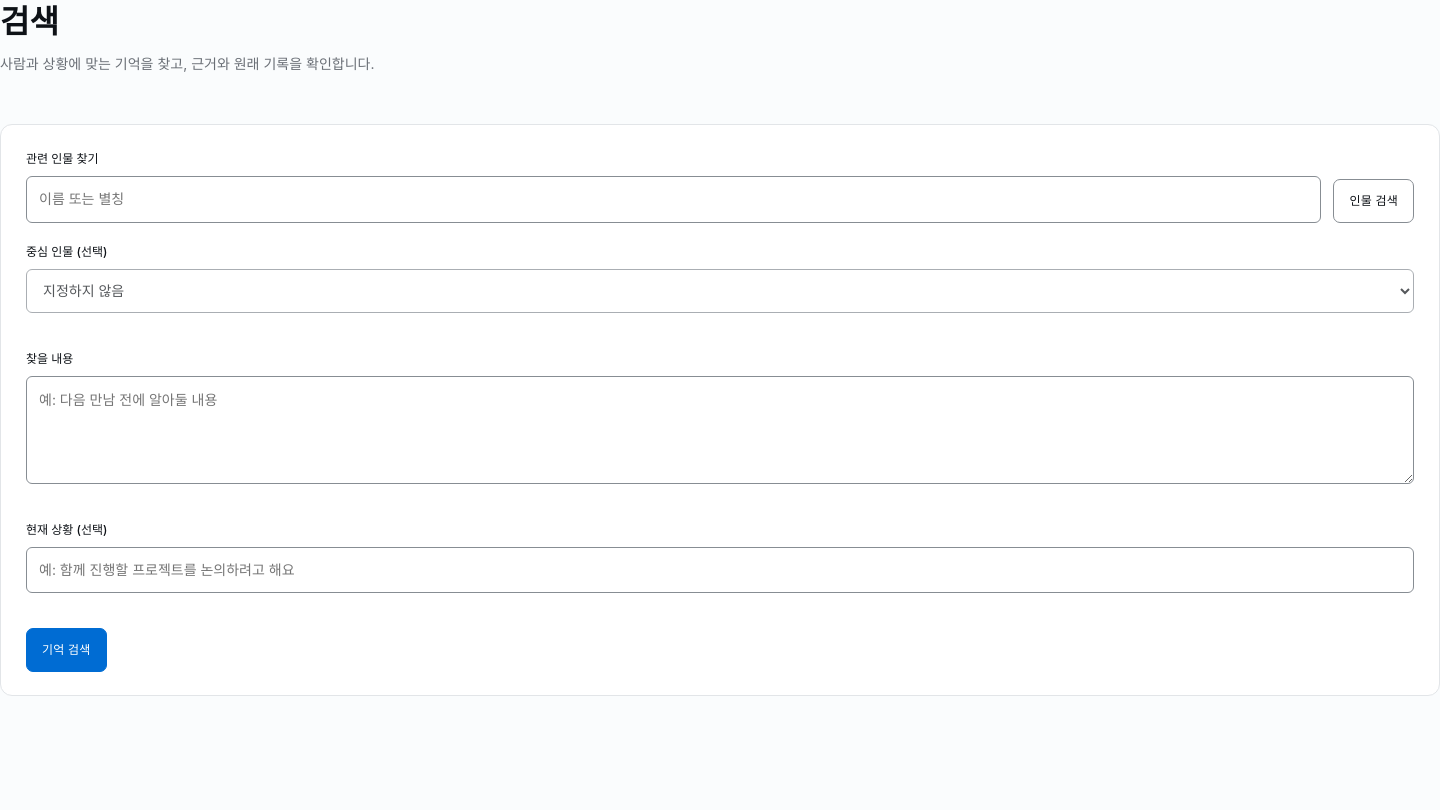
Test: 새 검색 화면 › 후속 검색의 인증 실패 시 이전 결과를 지우고 실패 원인을 표시한다
The width and height of the screenshot is (1440, 810).
Type "생일" into the text box labelled "찾을 내용".
click(720, 430); type("생일")  # box [26, 376, 1414, 484]
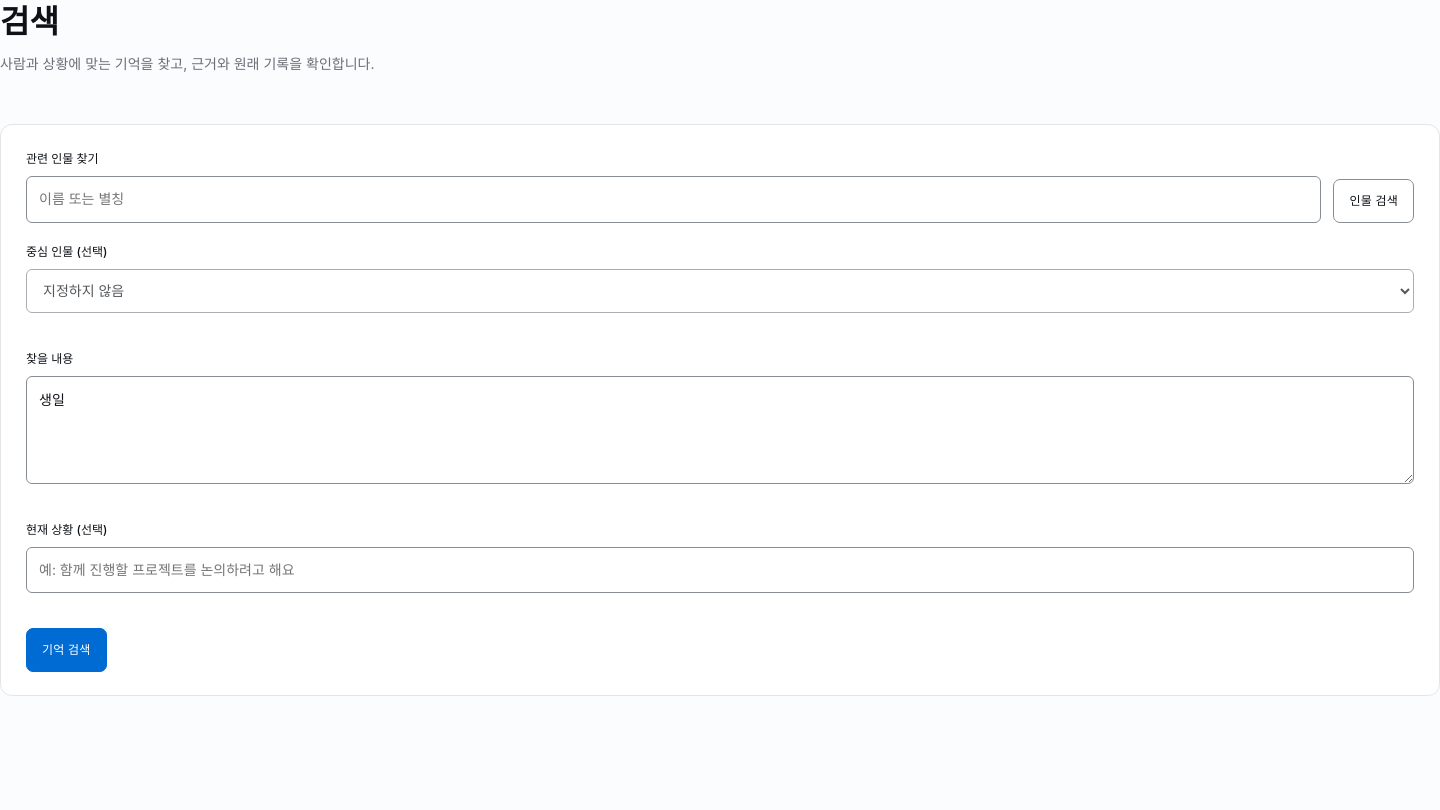
Click the button "기억 검색".
click(66, 650)  # box [26, 628, 107, 672]
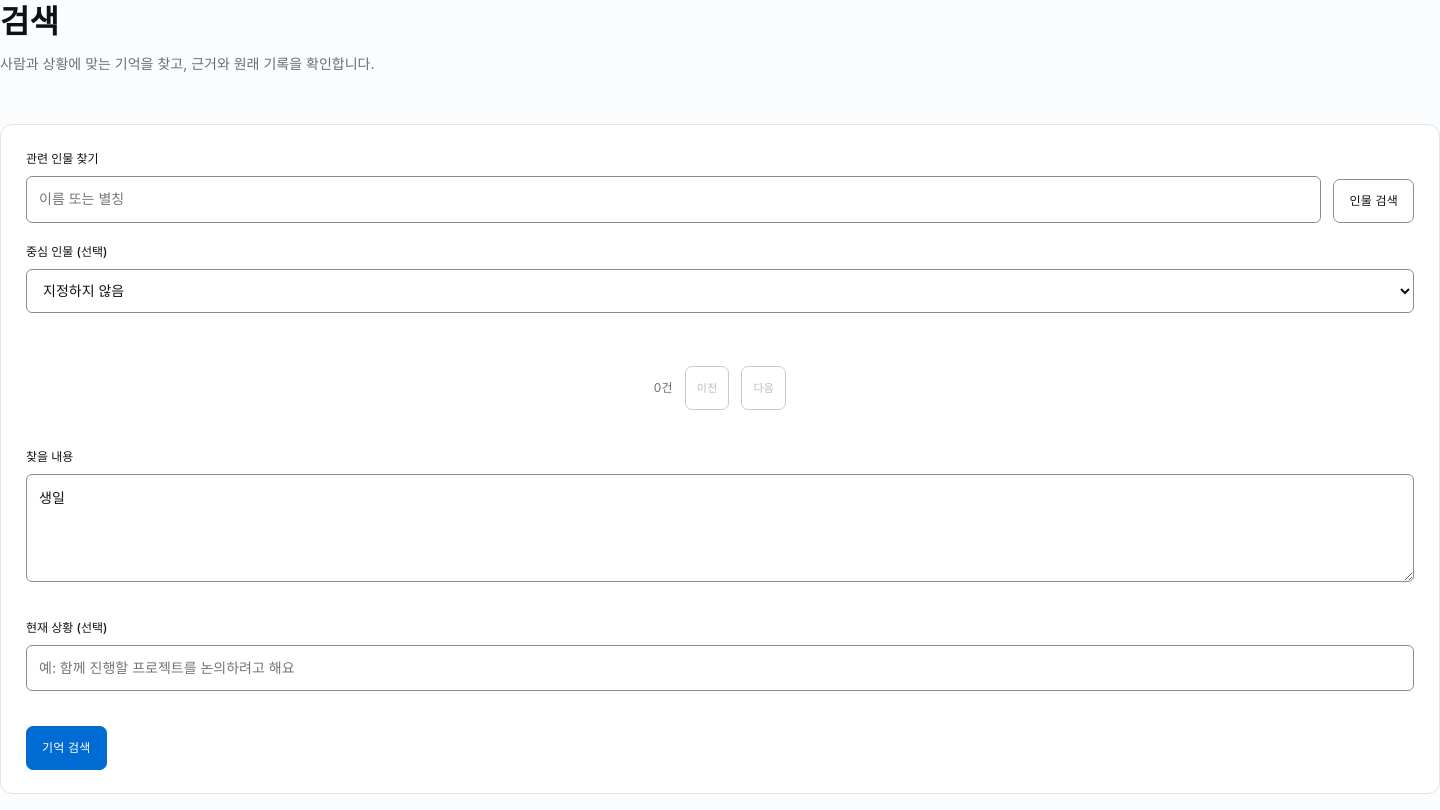
Click the button "기억 검색".
click(66, 748)  # box [26, 726, 107, 770]
(page scrolled)
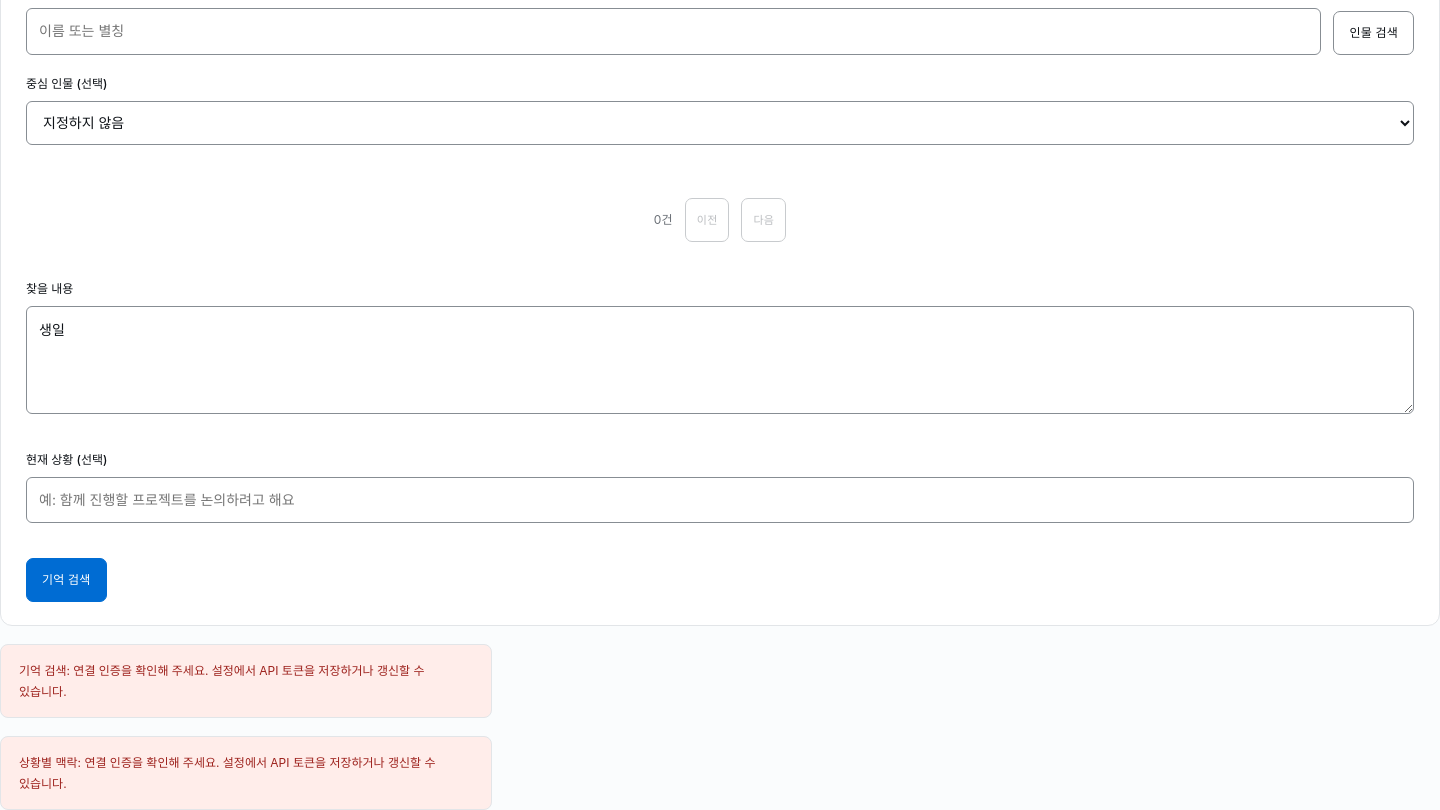
Check: the number of messages is 2, box [0, 644, 492, 718]; [0, 736, 492, 809]
Check: the message "기억 검색: 연결 인증을 확인해 주세요. 설정에서 API 토큰을 저장하거나 갱신할 수 있습니다." is shown, box [0, 644, 492, 718]
